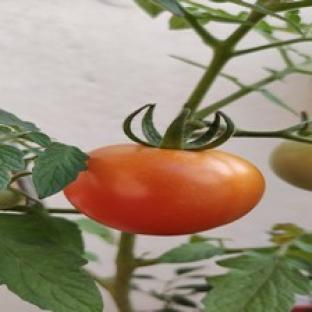Tomato: (65, 144, 264, 235), (271, 141, 311, 190), (0, 189, 22, 208)
